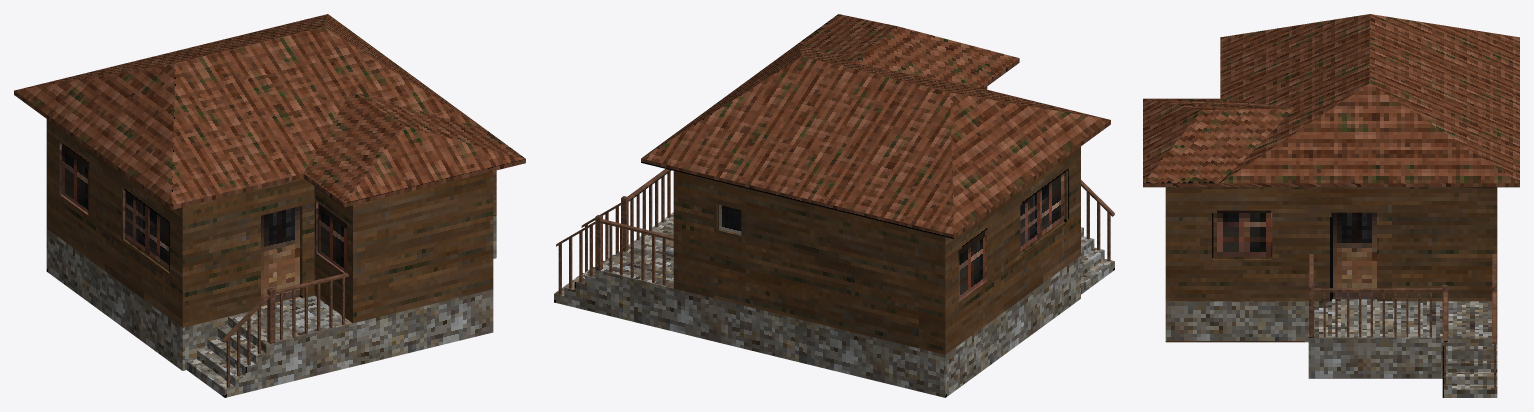
File: house.glb
The picture shows the model from 3 angles, left to right: view 1: azimuth 30°, elevation 25°; view 2: azimuth 150°, elevation 25°; view 3: azimuth 270°, elevation 25°; orthographic projection. The views are drawn at different scales.
Parts seen in each view (by area): view 1: house5; view 2: house5; view 3: house5.
Part boxes in pixels (<box>): house5: <box>14,14,525,397</box>; house5: <box>554,14,1114,397</box>; house5: <box>1143,14,1519,397</box>.
Size of the model in its own units: 10 by 5.6 by 8.3.
1 material, 1 textured.
